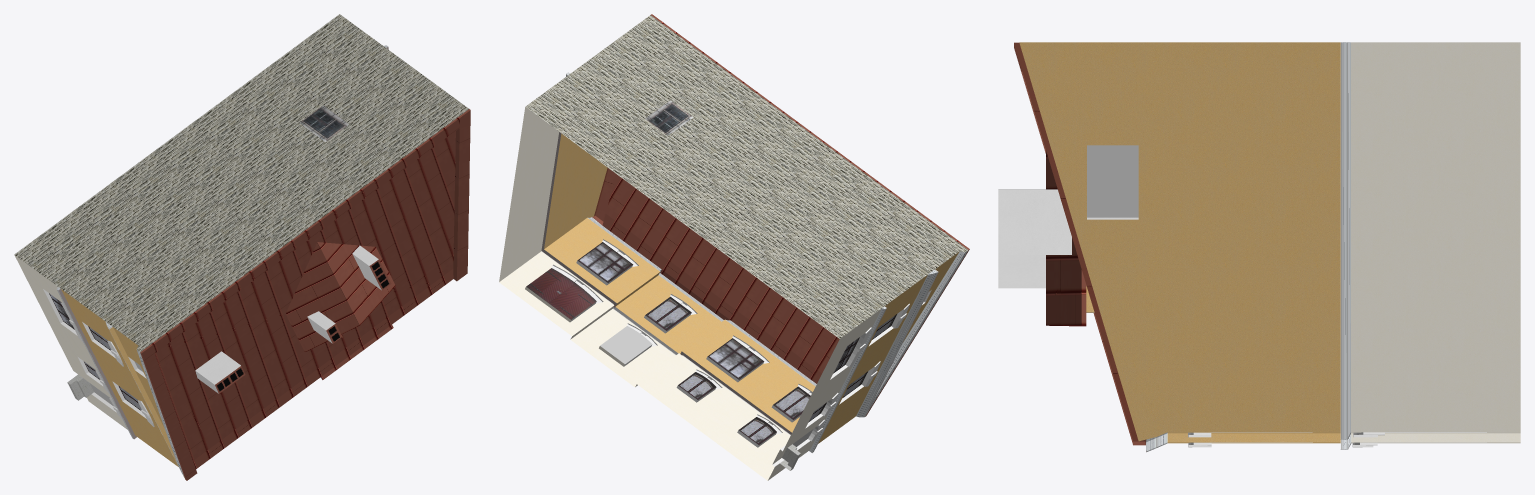
Rendered from Suur-Kloostri_22_2.obj.
The picture shows the model from 3 angles, left to right: view 1: azimuth 30°, elevation 25°; view 2: azimuth 150°, elevation 25°; view 3: azimuth 270°, elevation 25°; orthographic projection. The views are drawn at different scales.
Visible parts, largest first — view 1: Suur_Kloostri_22_2; view 2: Suur_Kloostri_22_2; view 3: Suur_Kloostri_22_2.
Part boxes in pixels (<box>): Suur_Kloostri_22_2: <box>14,14,470,480</box>; Suur_Kloostri_22_2: <box>499,14,969,480</box>; Suur_Kloostri_22_2: <box>998,42,1520,452</box>.
Bounding box in the file's own units: 17.6 × 15.56 × 11.46.
